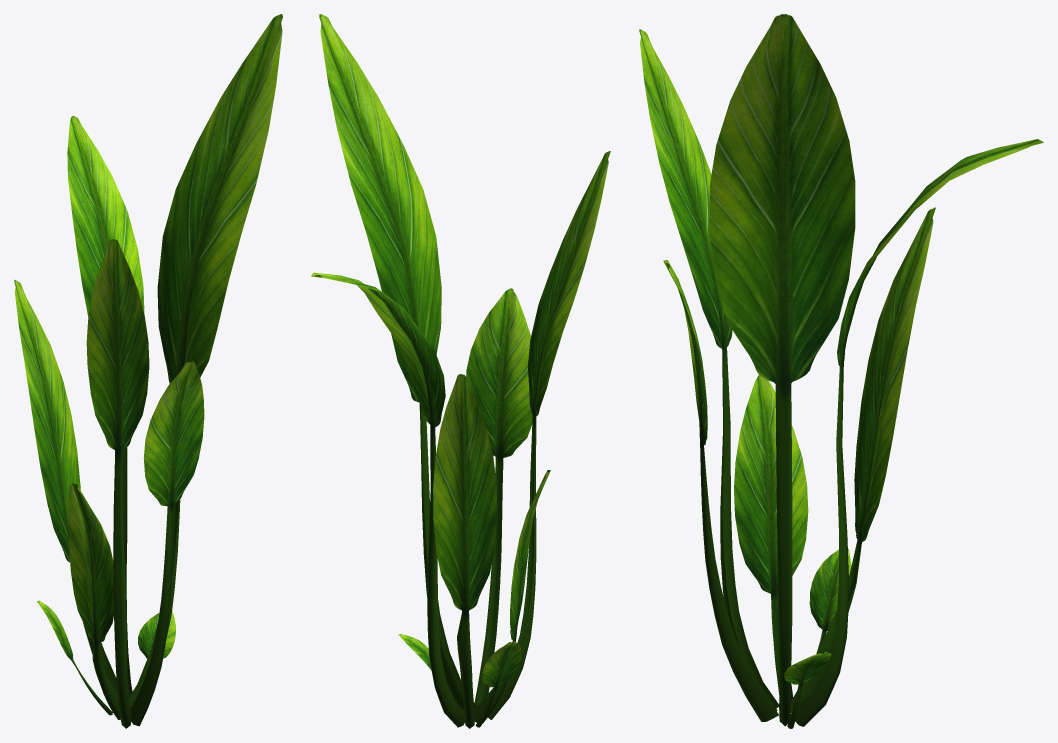
The model's file is plant_01.glb.
3 renders of one model, left to right at view 1: azimuth 30°, elevation 25°; view 2: azimuth 150°, elevation 25°; view 3: azimuth 270°, elevation 25°, orthographic. The views are drawn at different scales.
Parts seen in each view (by area): view 1: plant_01; view 2: plant_01; view 3: plant_01.
Boxes of the visible parts, bbox=[...] form: plant_01: bbox=[14, 14, 282, 728]; plant_01: bbox=[311, 14, 610, 728]; plant_01: bbox=[639, 14, 1043, 728].
Bounding box in the file's own units: 5.09 × 14.02 × 6.43.
Materials: 1 (1 with a texture image).
